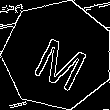M_NE: (25, 22, 90, 88)
